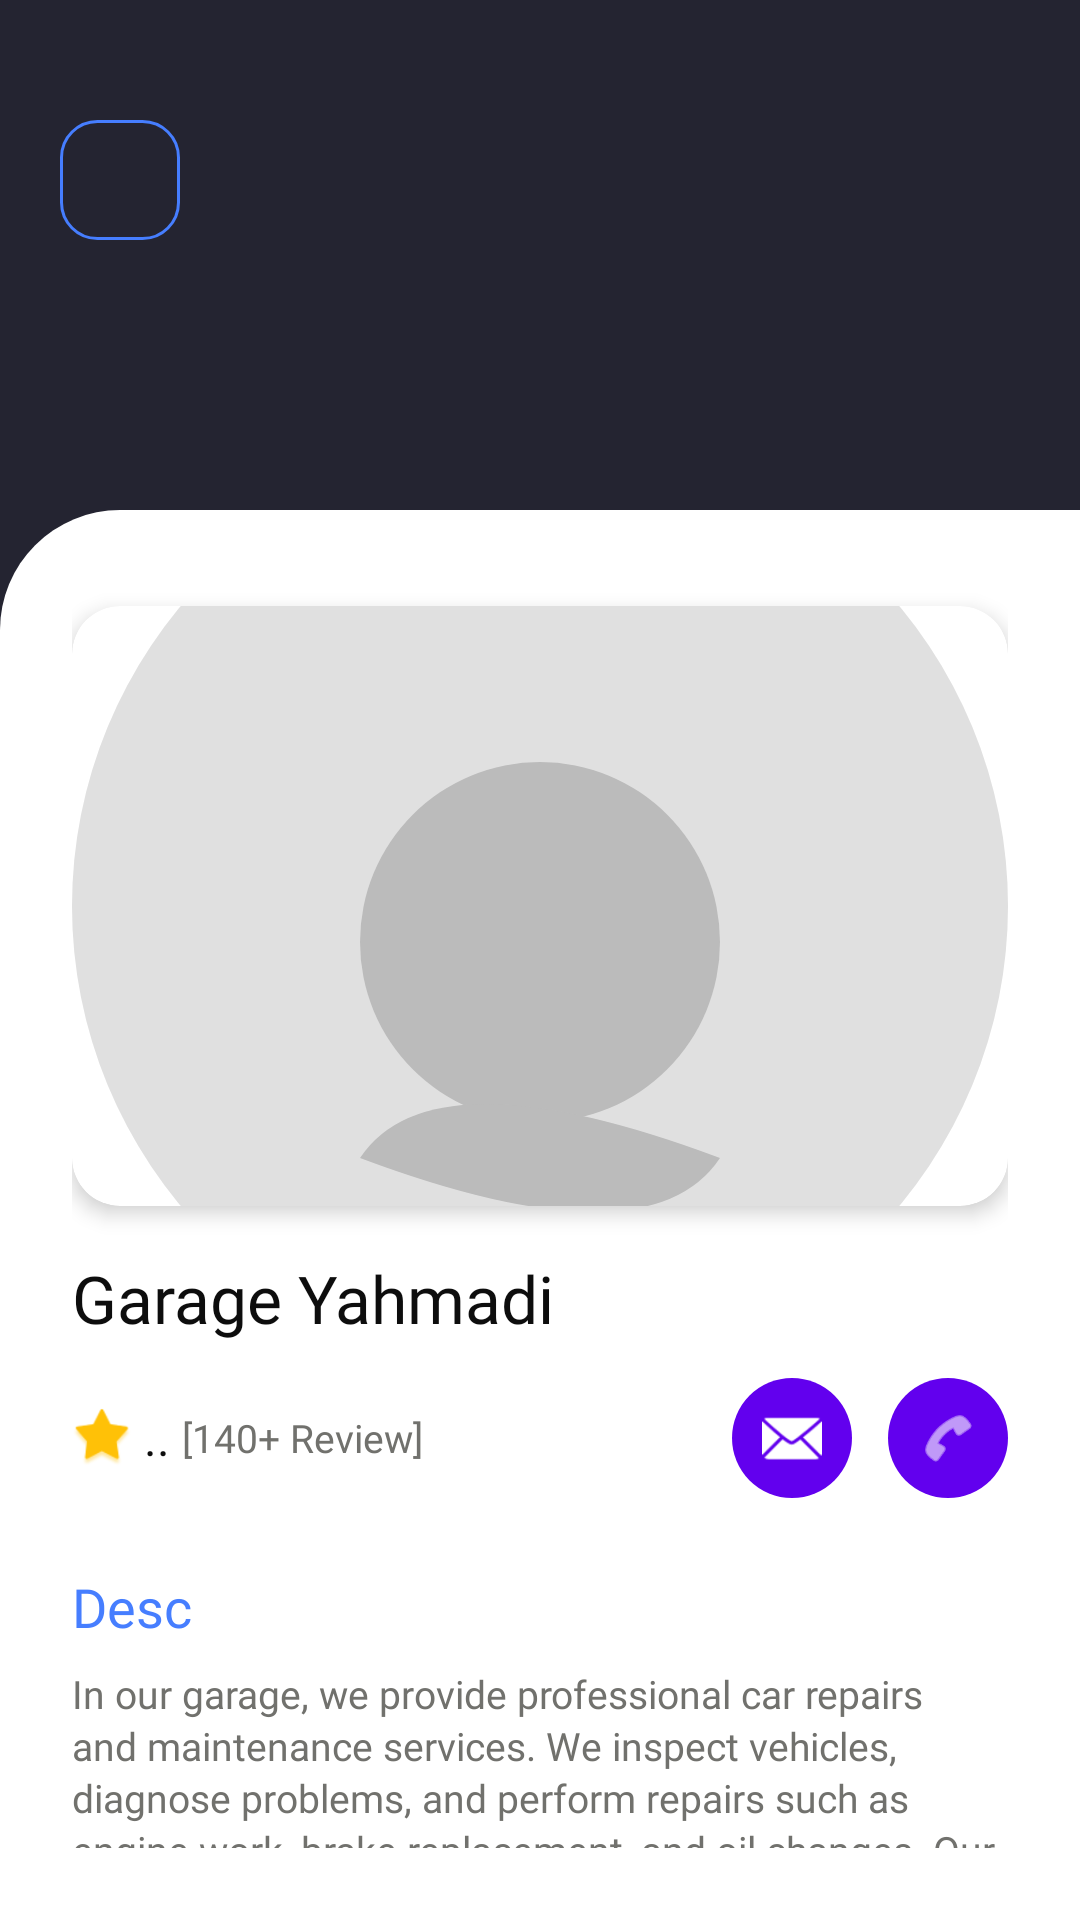

Icons on this 1080 × 1920 Android screen, each with its box as BBox(x1, y1, x2, y2):
call: BBox(888, 1378, 1008, 1498)
email: BBox(732, 1378, 852, 1498)
star on: BBox(75, 1409, 129, 1463)
